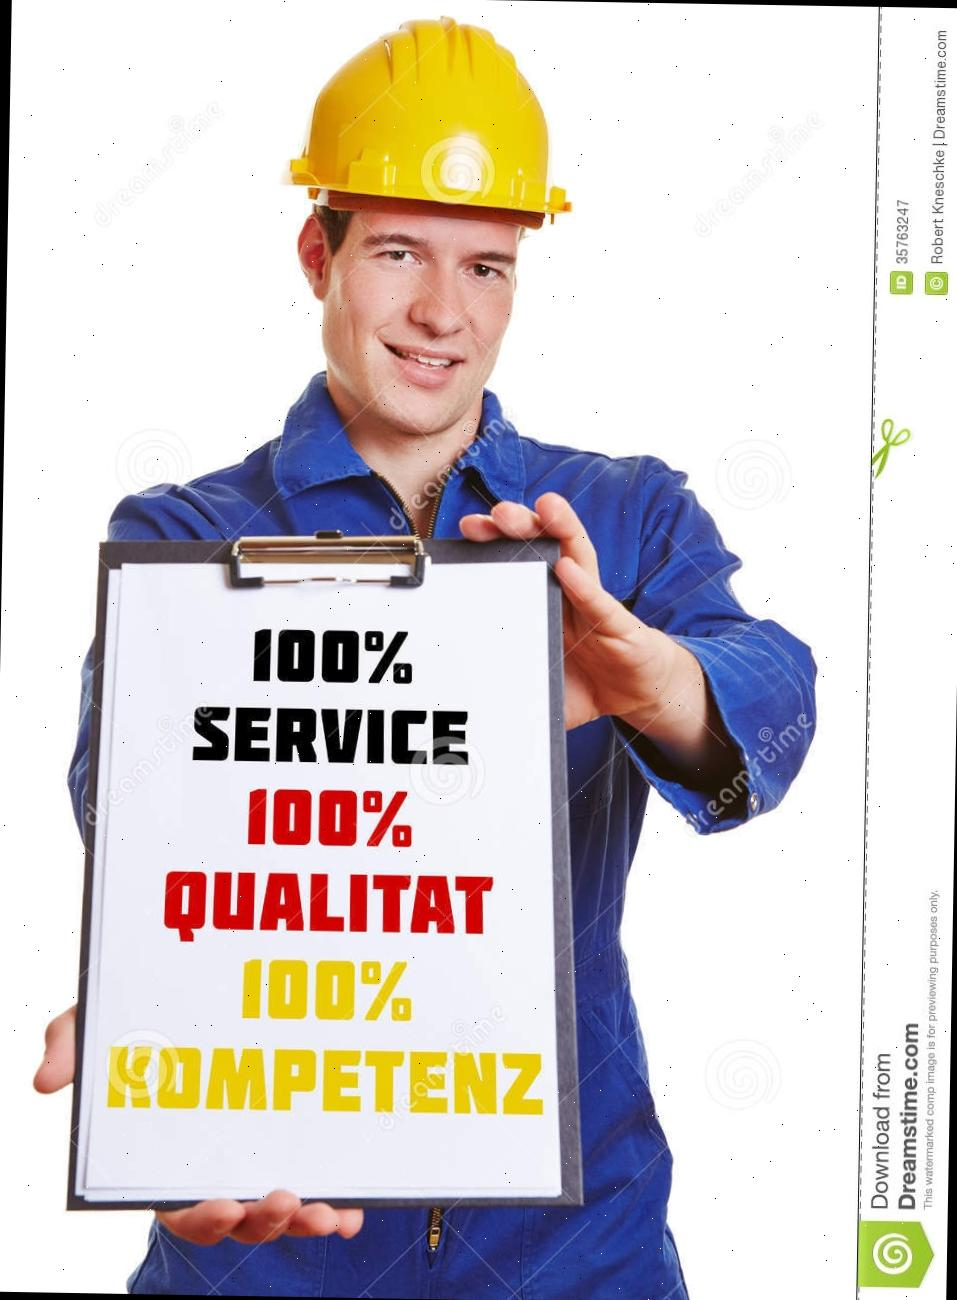helmet: (284, 14, 575, 239)
